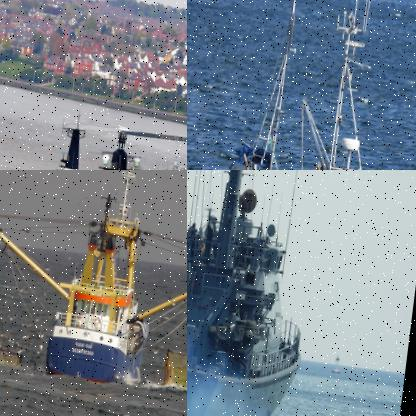Fishing Boat: (0, 170, 186, 398), (190, 0, 415, 169)
Military Ship: (187, 170, 335, 415), (0, 89, 186, 169)
